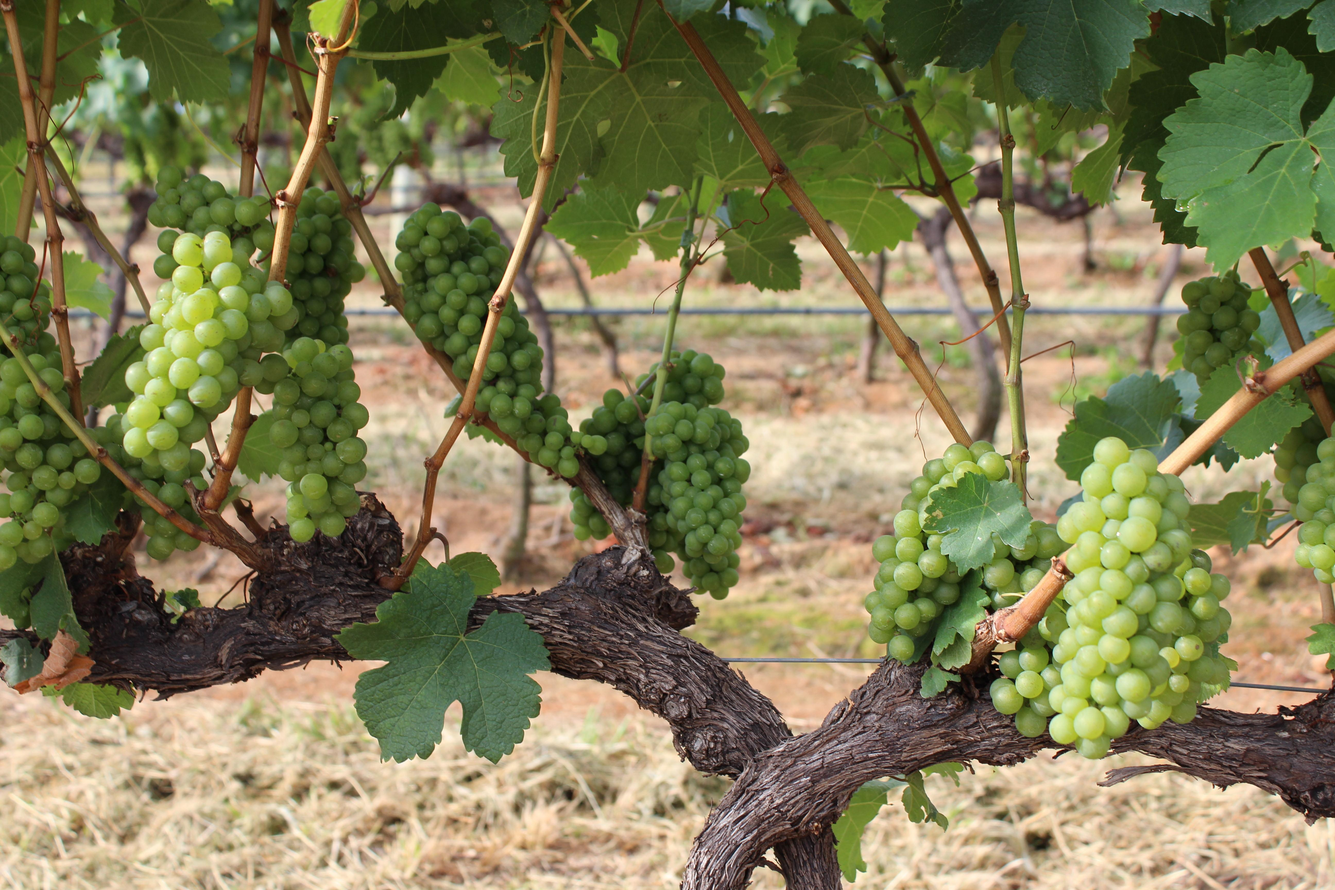leaf: (337, 564, 549, 761), (1158, 47, 1335, 268), (1055, 372, 1180, 480), (114, 0, 230, 102), (925, 473, 1032, 571), (781, 64, 879, 154), (721, 190, 809, 290), (546, 186, 641, 277), (807, 177, 918, 254), (832, 779, 904, 881), (1222, 386, 1312, 458), (932, 570, 990, 669), (81, 325, 145, 407), (1187, 491, 1268, 554), (65, 469, 126, 544), (794, 13, 865, 75), (1071, 125, 1123, 204), (437, 46, 498, 106), (63, 252, 113, 319), (237, 411, 282, 481), (0, 560, 45, 629), (1224, 0, 1311, 34), (491, 0, 552, 45), (58, 682, 134, 718), (0, 135, 27, 232), (1196, 365, 1241, 420), (447, 552, 501, 597), (0, 637, 43, 687), (1292, 293, 1335, 342), (1256, 305, 1292, 361), (1307, 0, 1335, 52), (1145, 0, 1211, 21), (1306, 623, 1335, 669), (920, 665, 960, 698), (1262, 497, 1272, 509), (1290, 292, 1292, 297), (1322, 164, 1325, 167), (419, 563, 422, 566), (45, 687, 53, 688), (1267, 484, 1268, 487), (373, 19, 374, 20), (0, 131, 3, 131)
